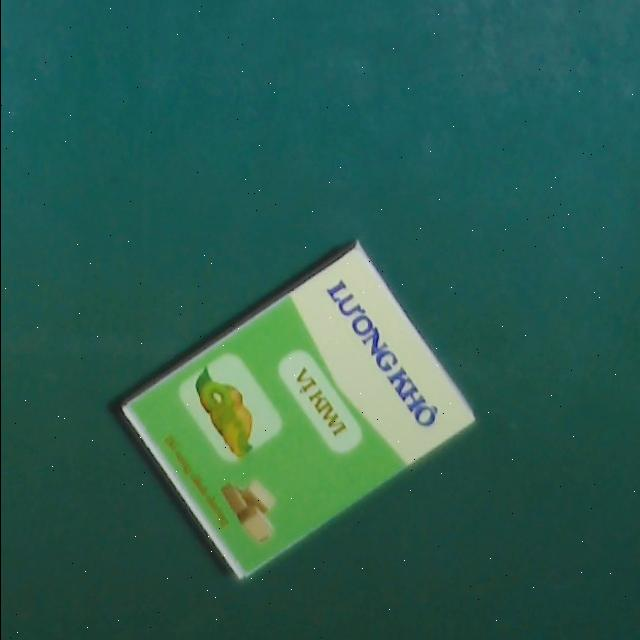kiwi: (115, 240, 479, 584)
